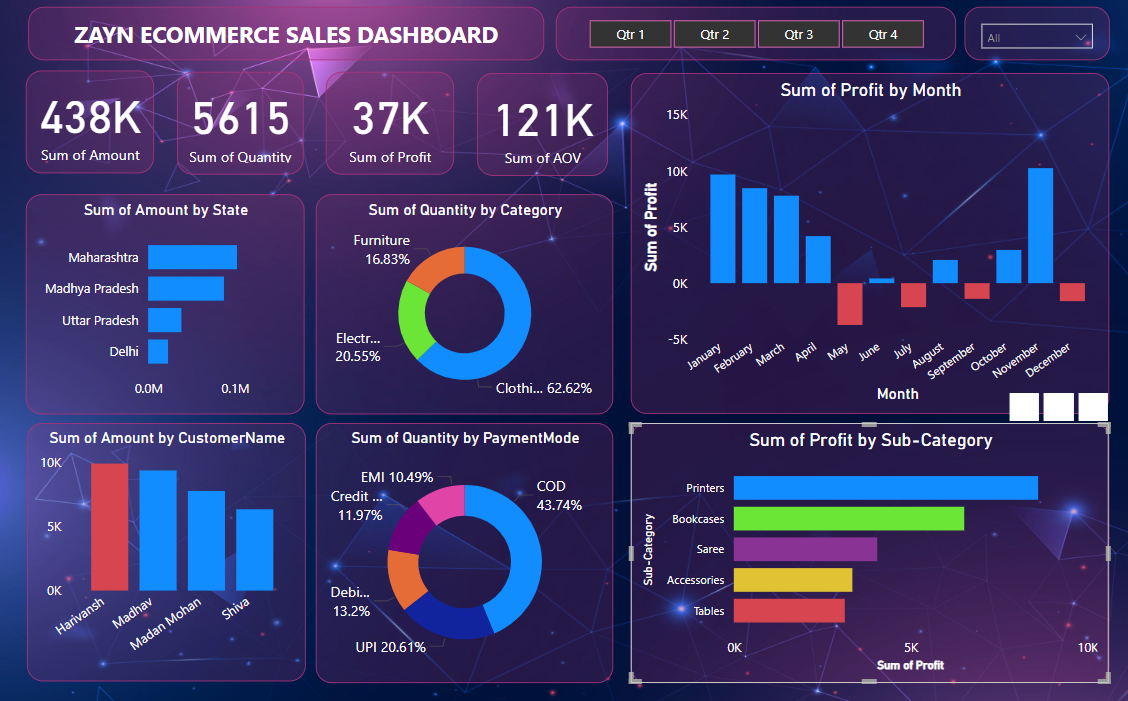

The page's visual inventory and layout, read from the dashboard file:
{"tool":"powerbi","page":{"name":"Page 1","canvas":[1280,720],"ordinal":0},"visuals":[{"type":"textbox","box":[29.4,8.2,485.9,50.6],"z":0},{"type":"columnChart","fields":{"Category":["Orders.Order Date.Variation.Date Hierarchy.Month"],"Y":["Details.Profit"]},"box":[596.5,70.6,450.6,321.2],"z":1000},{"type":"barChart","fields":{"Category":["Details.Sub-Category"],"Y":["Details.Profit"]},"box":[596.5,400,450.6,244.7],"z":2000},{"type":"donutChart","fields":{"Category":["Details.Category"],"Y":["Details.Quantity"]},"box":[300,184.7,280,207.1],"z":3000},{"type":"donutChart","fields":{"Y":["Details.Quantity"],"Category":["Details.PaymentMode"]},"box":[300,400,280,244.7],"z":4000},{"type":"card","fields":{"Values":["Details.Amount"]},"box":[27.1,68.2,121.2,96.5],"z":5000},{"type":"card","fields":{"Values":["Details.Quantity"]},"box":[169.4,69.4,118.8,96.5],"z":6000},{"type":"card","fields":{"Values":["Details.Profit"]},"box":[309.4,69.4,121.2,96.5],"z":7000},{"type":"card","fields":{"Values":["Details.AOV"]},"box":[451.8,70.6,123.5,96.5],"z":8000},{"type":"barChart","fields":{"Y":["Details.Amount"],"Category":["Orders.State"]},"box":[27.1,184.7,262.4,207.1],"z":9000},{"type":"columnChart","fields":{"Y":["Details.Amount"],"Category":["Orders.CustomerName"]},"box":[28.2,400,262.4,243.5],"z":10000},{"type":"slicer","fields":{"Values":["Orders.Order Date.Variation.Date Hierarchy.Quarter"]},"box":[525.9,8.2,376.5,50.6],"z":11000},{"type":"slicer","fields":{"Values":["Orders.State"]},"box":[910.6,8.2,136.5,50.6],"z":12000}]}

Visuals, with their boxes on the page's 1280x720 design canvas (x1, y1, x2, y2). These are canvas units, not pixel positions in the 1128x701 screenshot, which may show the page scaled, cropped or inside an application window:
textbox: (x1=29, y1=8, x2=515, y2=59)
columnChart - Orders.Order Date.Variation.Date Hierarchy.Month x Details.Profit: (x1=596, y1=71, x2=1047, y2=392)
barChart - Details.Sub-Category x Details.Profit: (x1=596, y1=400, x2=1047, y2=645)
donutChart - Details.Category x Details.Quantity: (x1=300, y1=185, x2=580, y2=392)
donutChart - Details.Quantity x Details.PaymentMode: (x1=300, y1=400, x2=580, y2=645)
card - Details.Amount: (x1=27, y1=68, x2=148, y2=165)
card - Details.Quantity: (x1=169, y1=69, x2=288, y2=166)
card - Details.Profit: (x1=309, y1=69, x2=431, y2=166)
card - Details.AOV: (x1=452, y1=71, x2=575, y2=167)
barChart - Details.Amount x Orders.State: (x1=27, y1=185, x2=290, y2=392)
columnChart - Details.Amount x Orders.CustomerName: (x1=28, y1=400, x2=291, y2=644)
slicer - Orders.Order Date.Variation.Date Hierarchy.Quarter: (x1=526, y1=8, x2=902, y2=59)
slicer - Orders.State: (x1=911, y1=8, x2=1047, y2=59)
